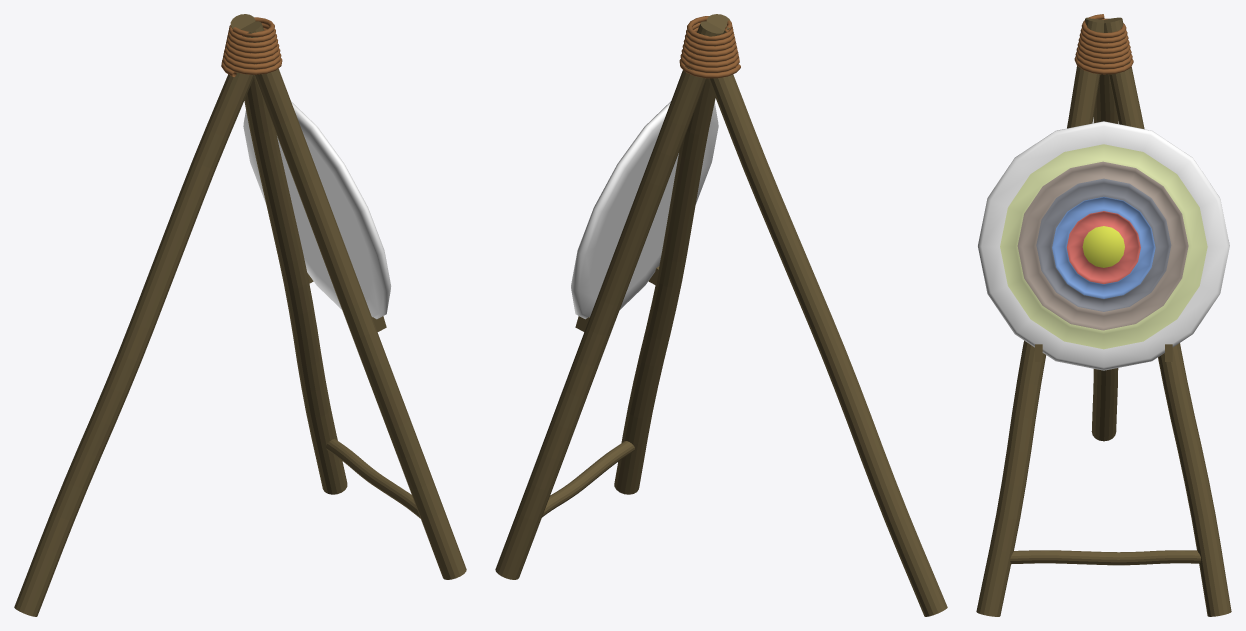
File: Tee.fbx
The picture shows the model from 3 angles, left to right: view 1: azimuth 30°, elevation 25°; view 2: azimuth 150°, elevation 25°; view 3: azimuth 270°, elevation 25°; orthographic projection. The views are drawn at different scales.
Parts seen in each view (by area): view 1: Tee; view 2: Tee; view 3: Tee.
Boxes of the visible parts, x1,y1,x2,y2 form: Tee: (14,14,466,616); Tee: (495,14,947,616); Tee: (976,14,1231,616).
Size of the model in its own units: 356 by 479 by 209.
